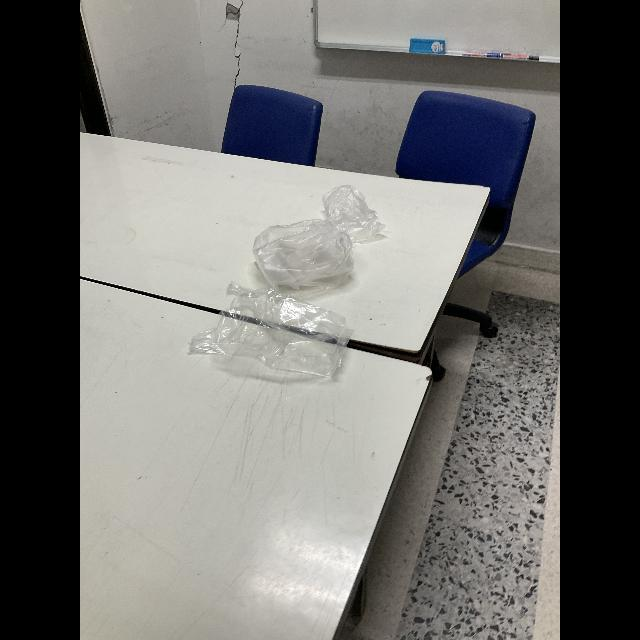plastic_bag: (192, 289, 356, 379), (248, 213, 368, 297)
scrap_plastic: (316, 187, 386, 231)
